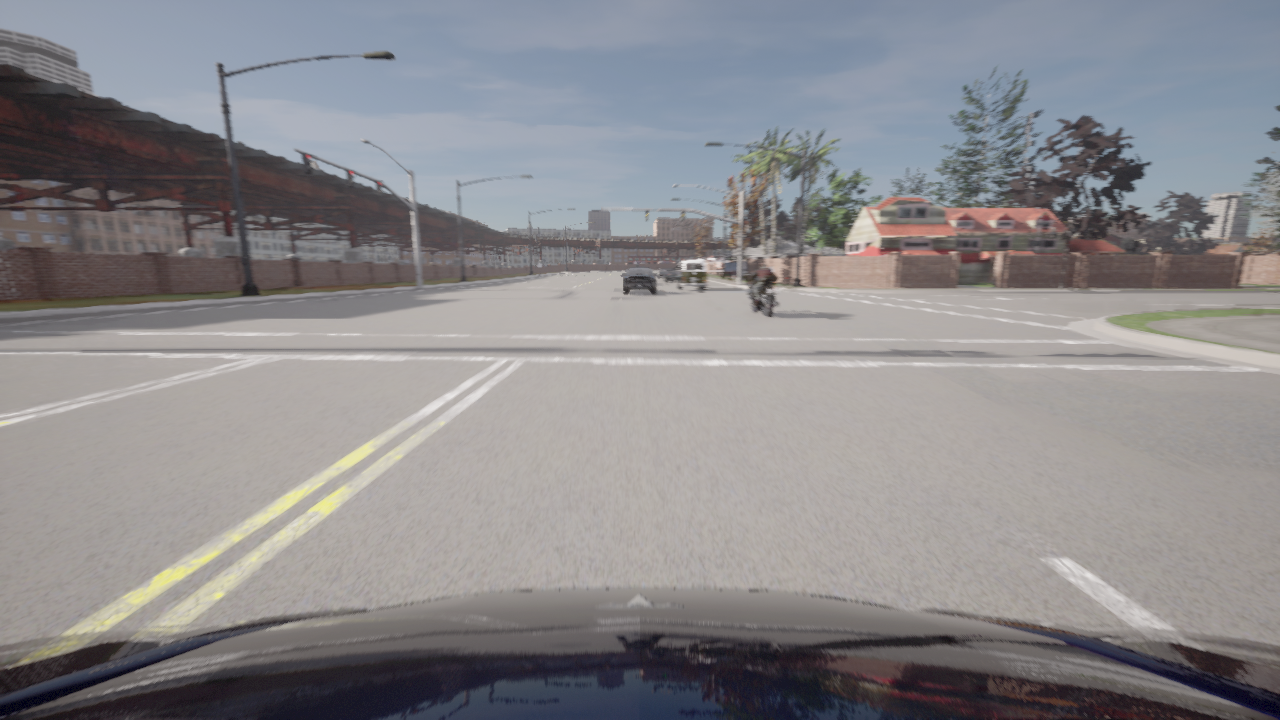cyclist: (0, 588, 1279, 719), (744, 274, 779, 318), (674, 260, 706, 290), (621, 267, 656, 293), (663, 269, 675, 282), (657, 269, 666, 278)
